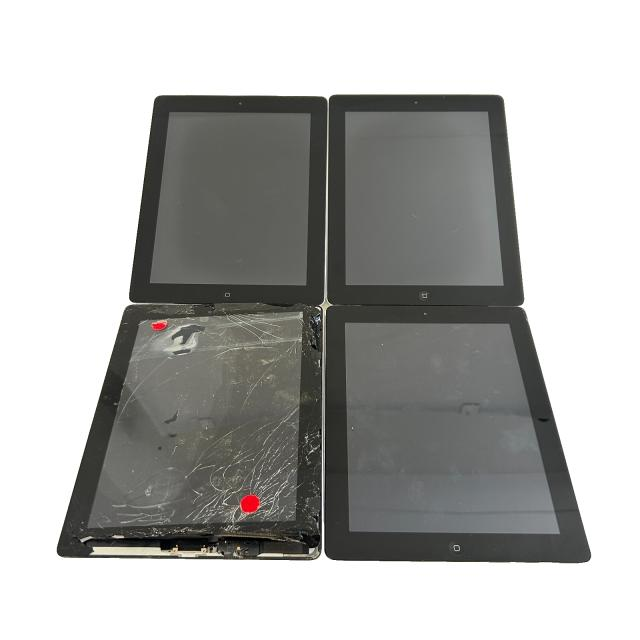Crack: (33, 307, 324, 560)
Scratches: (403, 211, 421, 223), (349, 425, 356, 433)
phone good: (328, 309, 592, 564), (328, 95, 549, 305), (128, 90, 323, 304)
